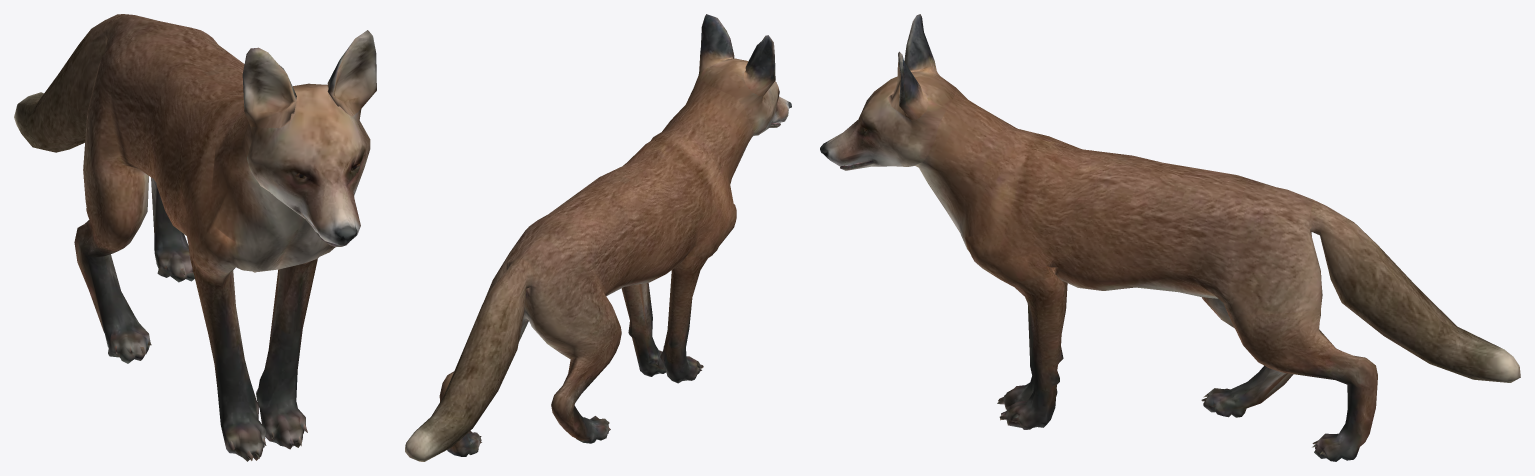
File: fox.glb
3 renders of one model, left to right at view 1: azimuth 30°, elevation 25°; view 2: azimuth 150°, elevation 25°; view 3: azimuth 270°, elevation 25°, orthographic. The views are drawn at different scales.
Parts seen in each view (by area): view 1: Fox001_applied_clean_M_Fox_0_M_Fox_0; view 2: Fox001_applied_clean_M_Fox_0_M_Fox_0; view 3: Fox001_applied_clean_M_Fox_0_M_Fox_0.
Part boxes in pixels (left/top/right/bottom): Fox001_applied_clean_M_Fox_0_M_Fox_0: left=14, top=14, right=376, bottom=461; Fox001_applied_clean_M_Fox_0_M_Fox_0: left=405, top=14, right=791, bottom=461; Fox001_applied_clean_M_Fox_0_M_Fox_0: left=820, top=14, right=1520, bottom=461.
Bounding box in the file's own units: 0.3717 × 0.7772 × 1.32.
1 material, 1 textured.
